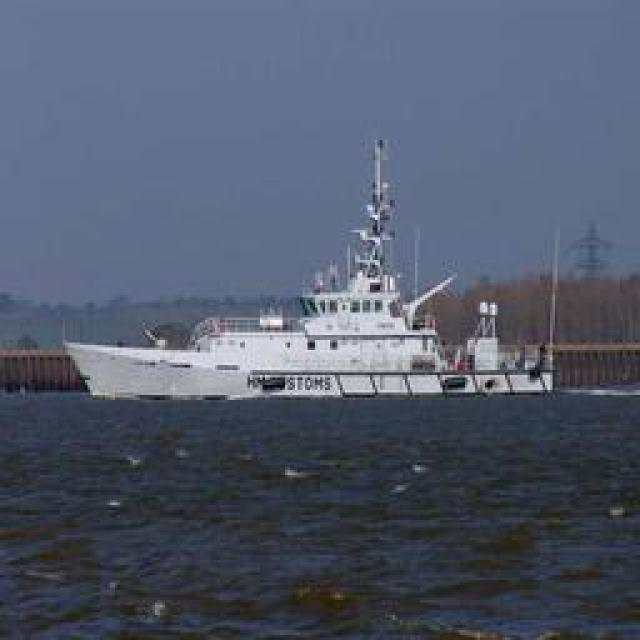Ship: (84, 133, 494, 401)
